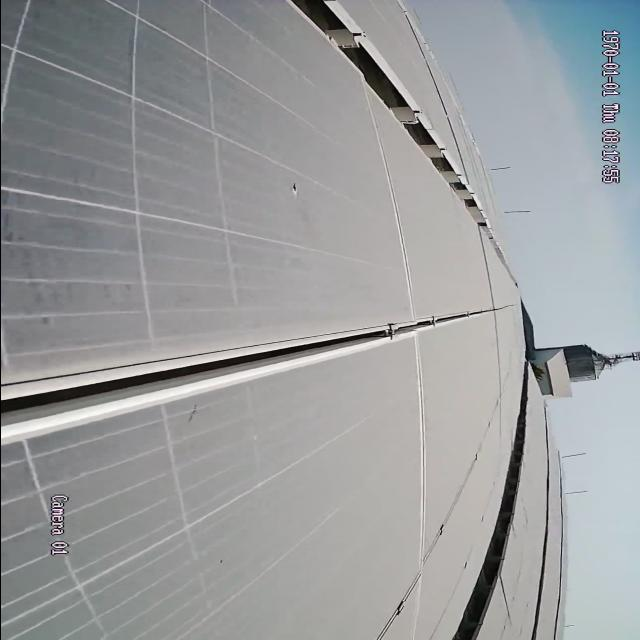interior panel: (2, 307, 508, 439), (360, 93, 427, 618)
outher panel: (289, 3, 500, 249), (443, 418, 524, 638)
